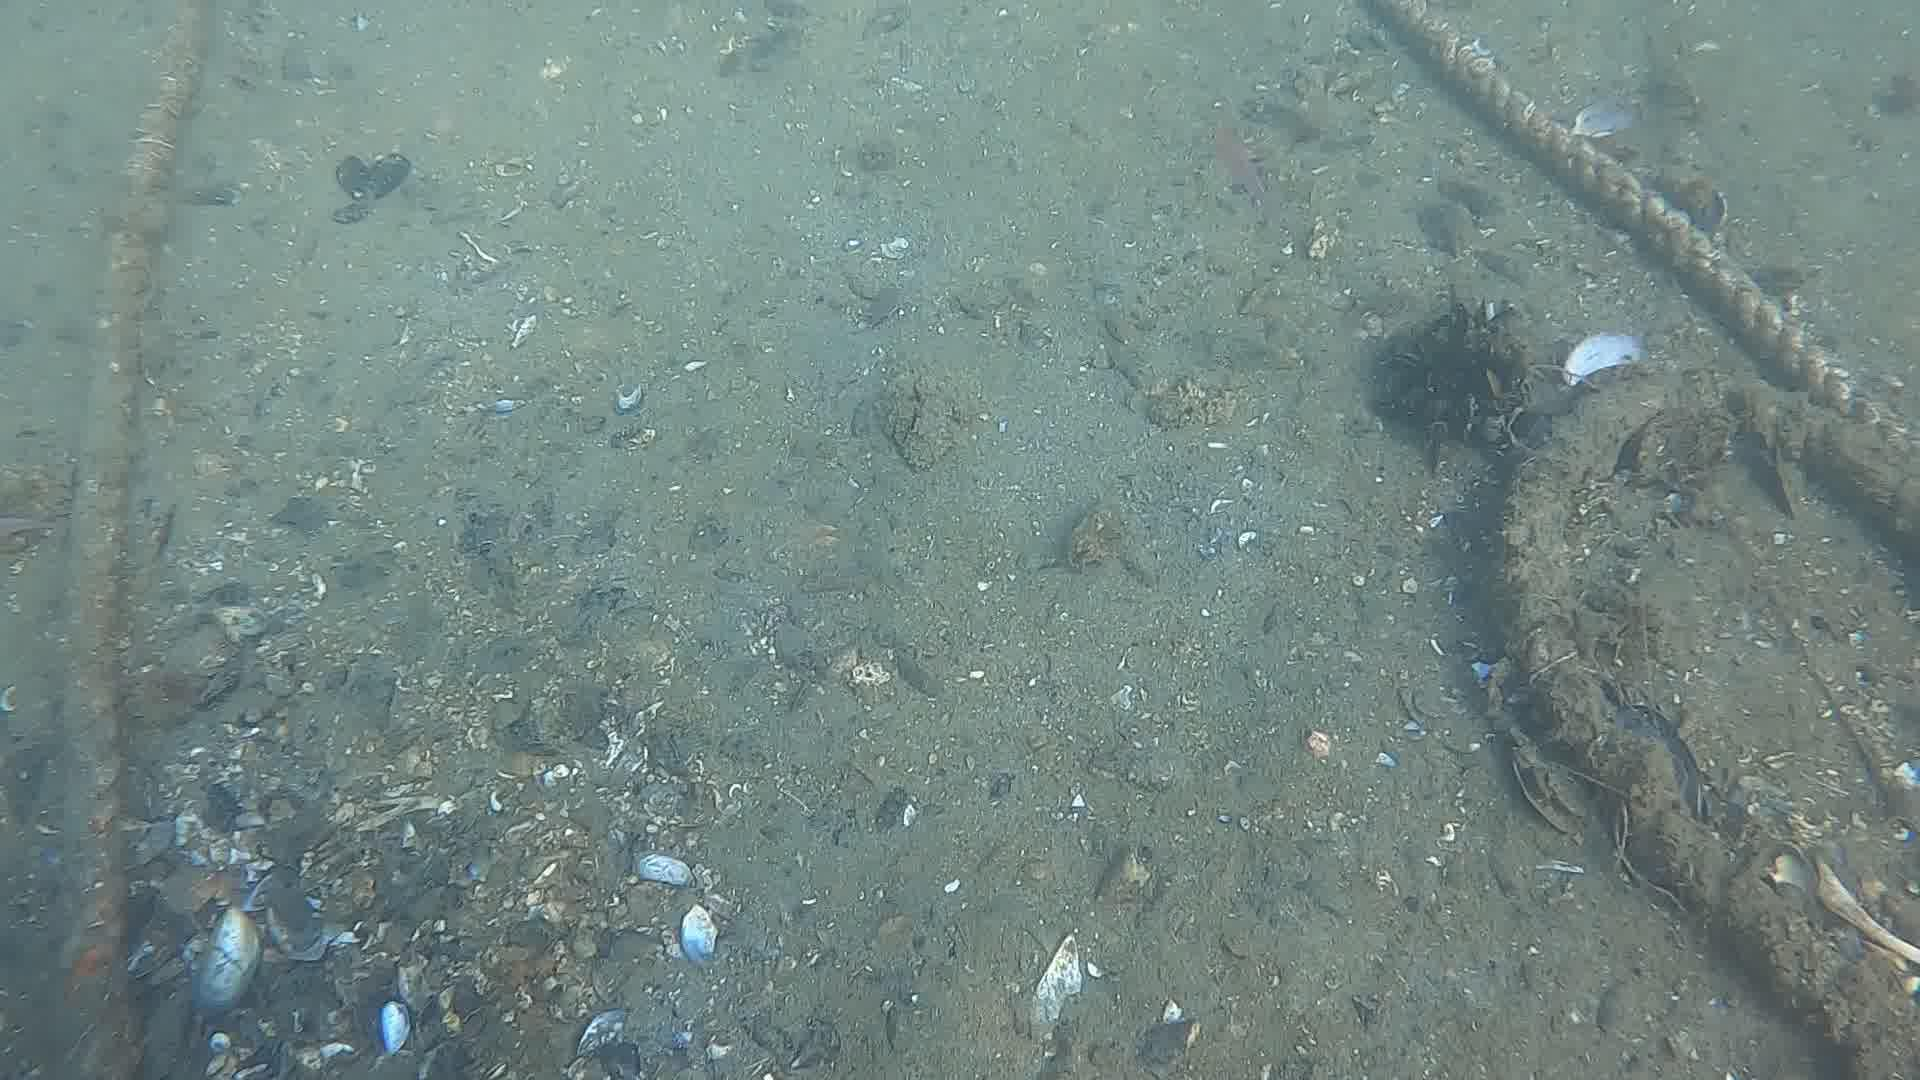rope: (1476, 351, 1920, 1080), (1361, 0, 1920, 473), (36, 5, 220, 1080)
